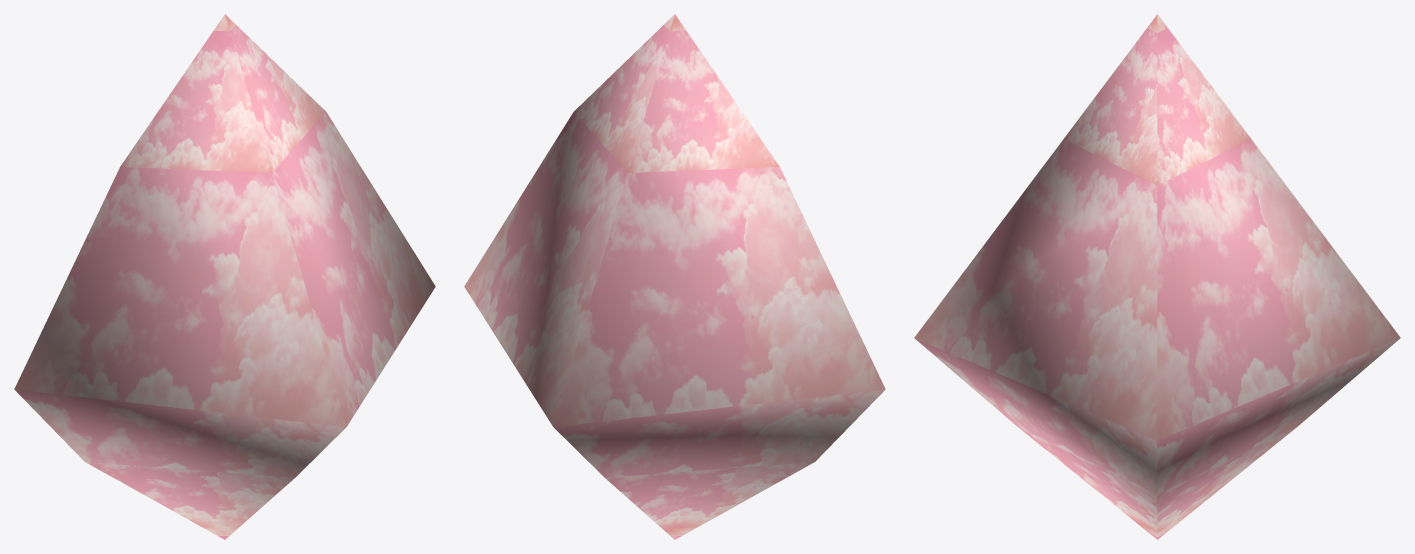
The model's file is seed_pink.fbx.
3 views of the same model, side by side, from view 1: azimuth 30°, elevation 25°; view 2: azimuth 150°, elevation 25°; view 3: azimuth 270°, elevation 25° (orthographic).
Visible parts, largest first — view 1: GeoSphere004; view 2: GeoSphere004; view 3: GeoSphere004.
Part boxes in pixels (bbox=[...]): GeoSphere004: bbox=[14, 14, 435, 539]; GeoSphere004: bbox=[464, 14, 885, 539]; GeoSphere004: bbox=[914, 14, 1400, 539].
Size of the model in its own units: 49.24 by 58.7 by 49.24.
Materials: 1 (1 with a texture image).
